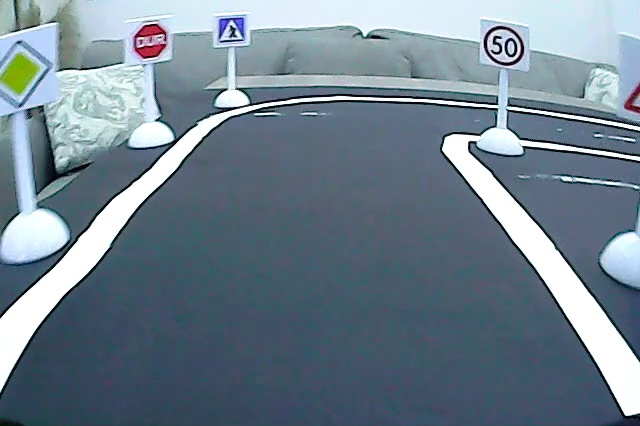pedestrian crossing: (216, 16, 249, 46)
speed limit 50: (481, 22, 525, 68)
stop sign: (130, 22, 170, 62)
